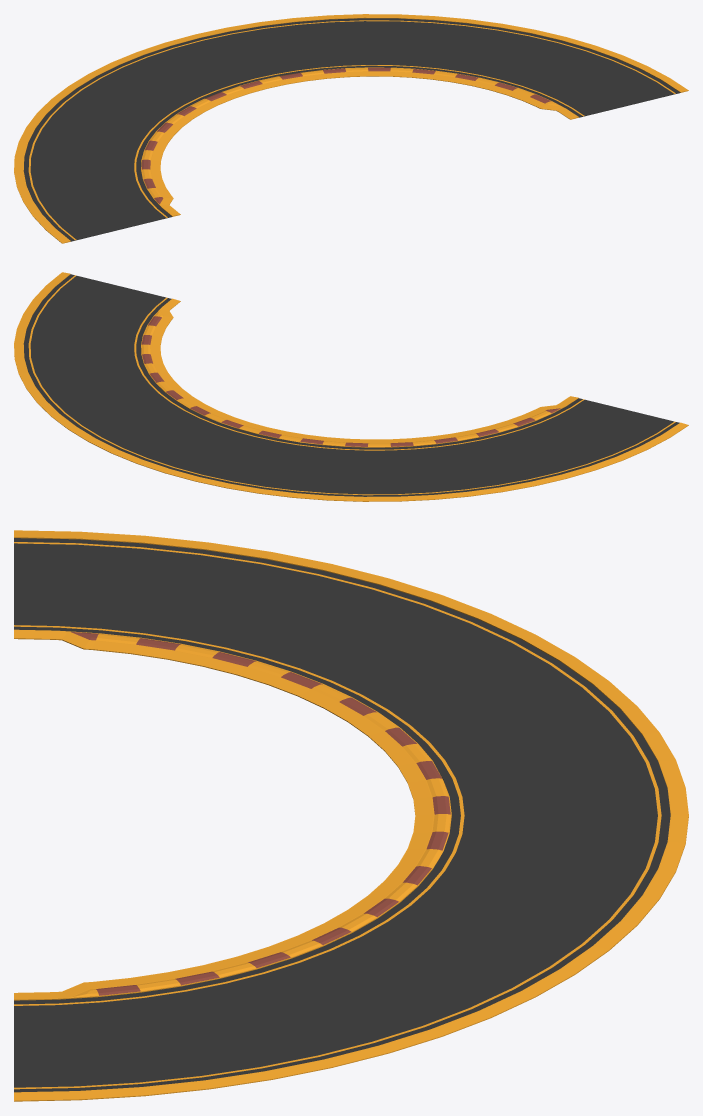
Rendered from SM_Racetrack_RunOff_Curb_UTurn_80x40m.fbx.
3 renders of one model, top to bottom at view 1: azimuth 30°, elevation 25°; view 2: azimuth 150°, elevation 25°; view 3: azimuth 270°, elevation 25°, orthographic. The views are drawn at different scales.
Parts seen in each view (by area): view 1: SM_Racetrack_RunOff_Curb_UTurn_80x40m; view 2: SM_Racetrack_RunOff_Curb_UTurn_80x40m; view 3: SM_Racetrack_RunOff_Curb_UTurn_80x40m.
Boxes of the visible parts, <box> form: SM_Racetrack_RunOff_Curb_UTurn_80x40m: <box>14,14,688,243</box>; SM_Racetrack_RunOff_Curb_UTurn_80x40m: <box>14,272,688,501</box>; SM_Racetrack_RunOff_Curb_UTurn_80x40m: <box>14,530,688,1101</box>.
Bounding box in the file's own units: 74 × 0.2 × 37.
